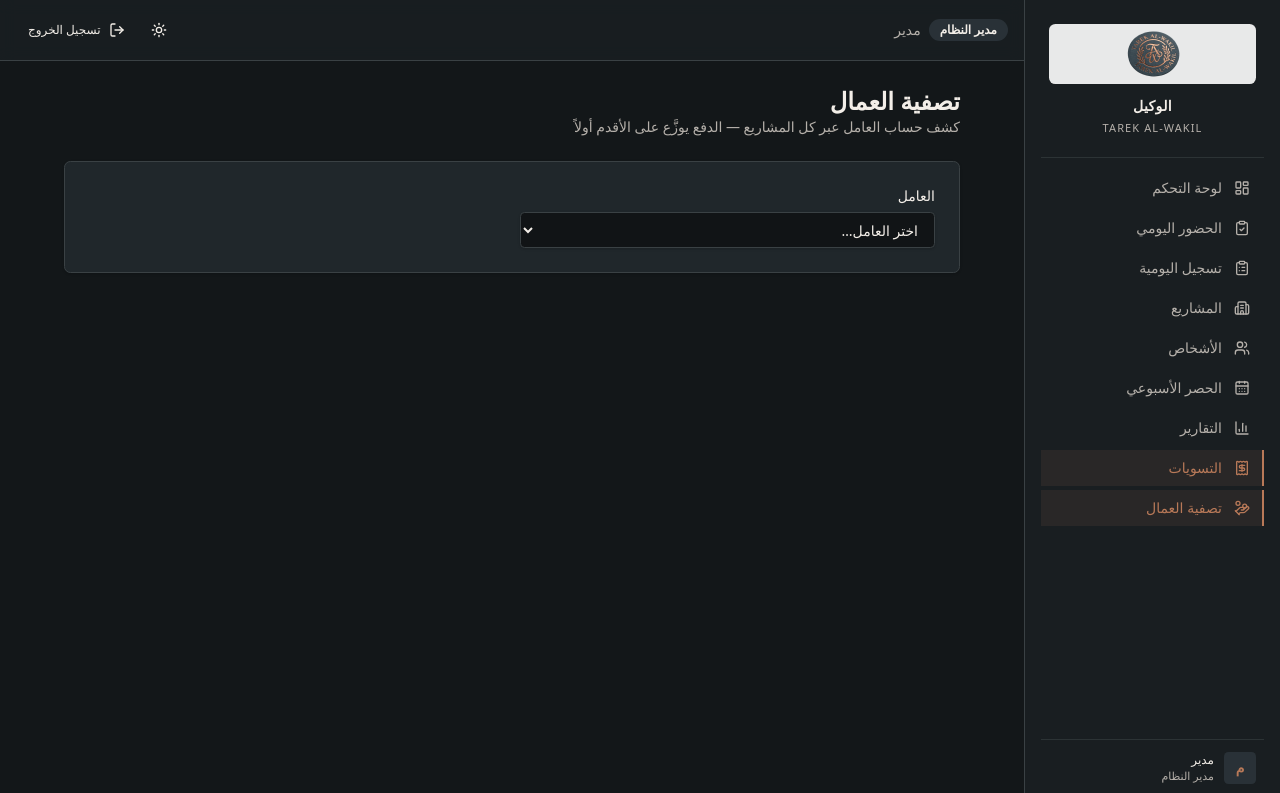
Test: WorkerSettlementPage › renders statement totals, dues, and payment history
The width and height of the screenshot is (1280, 793).
Select "أحمد حسن" in the dropdown labelled "العامل" at (728, 230), box [520,212,935,248]
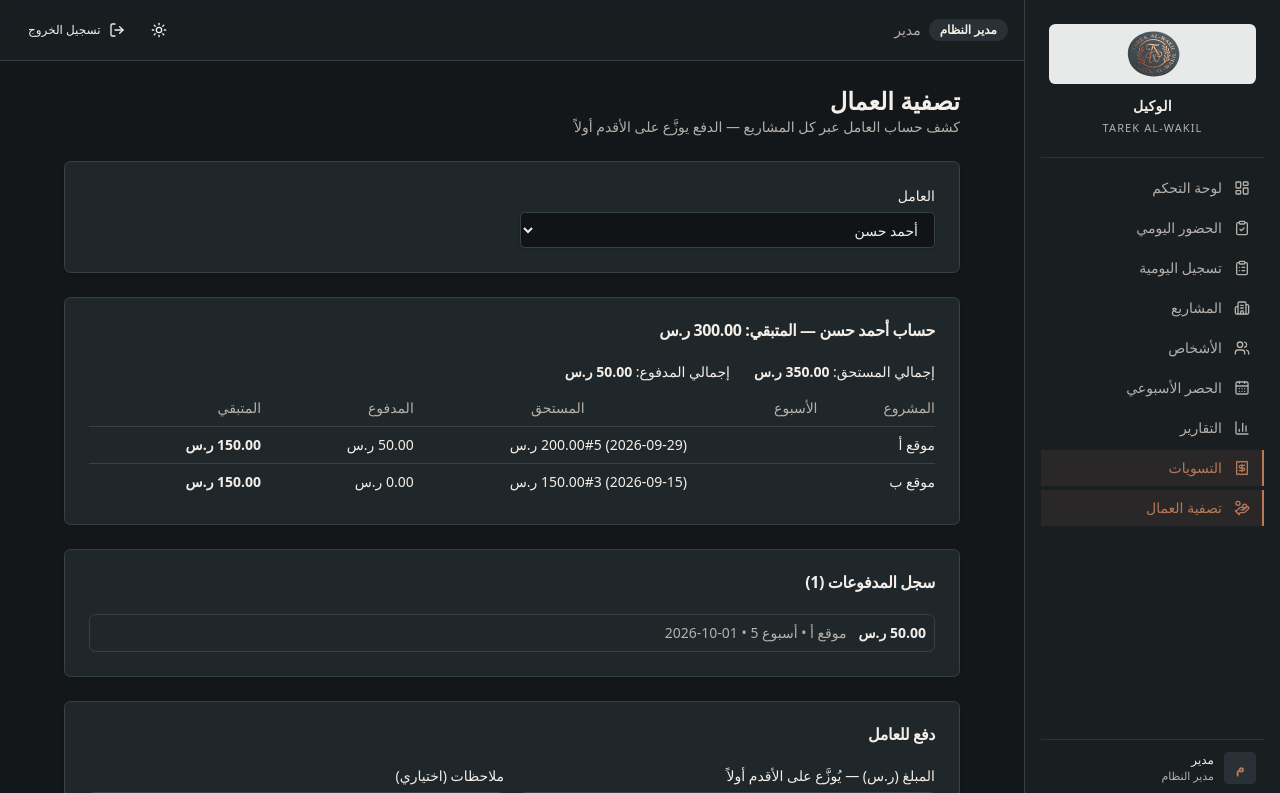
Check: the text "حساب أحمد حسن — المتبقي: 300.00 ر.س" is shown, box [659,319,935,341]
Check: the text "موقع ب" is shown, box [818,464,935,500]
Check: the text "150.00 ر.س" is shown 3 times, box [89,426,261,464]; [414,464,585,500]; [89,464,261,500]
